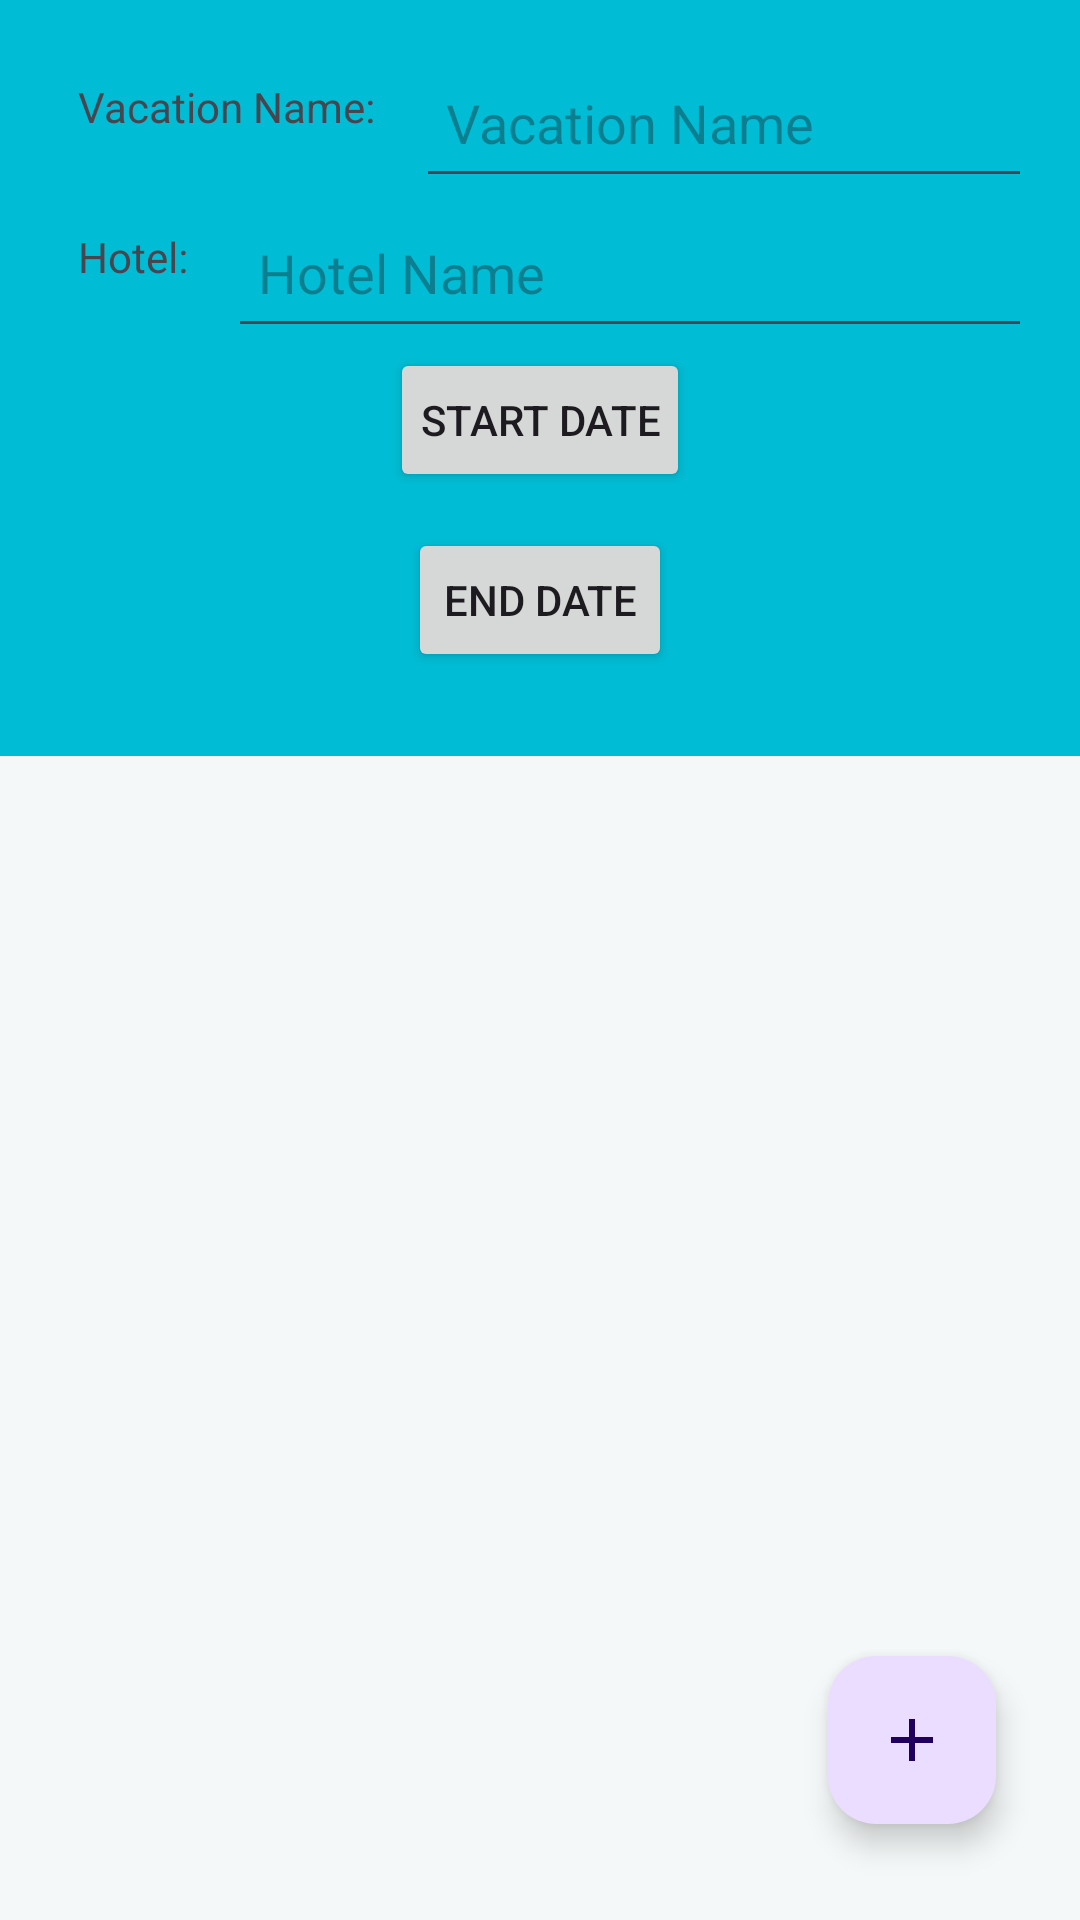

Icons on this 1080x1920 Android screen, each with the point to tap as point (x, y):
add: point (912, 1740)
